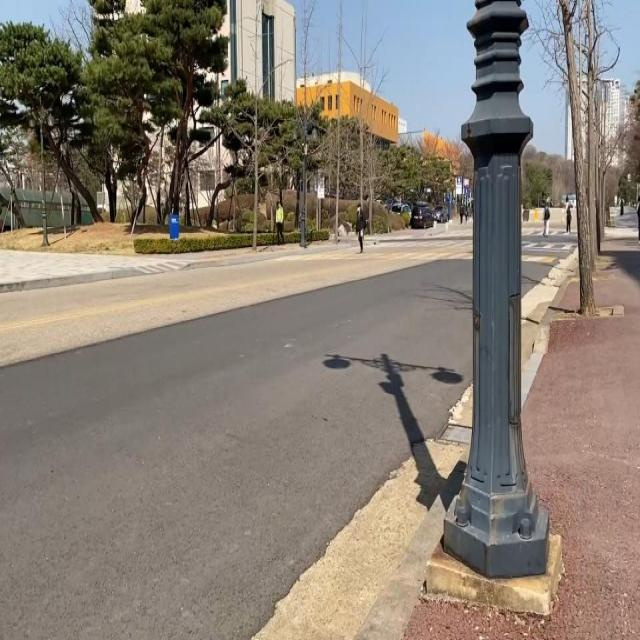sidewalk: (406, 236, 640, 639)
